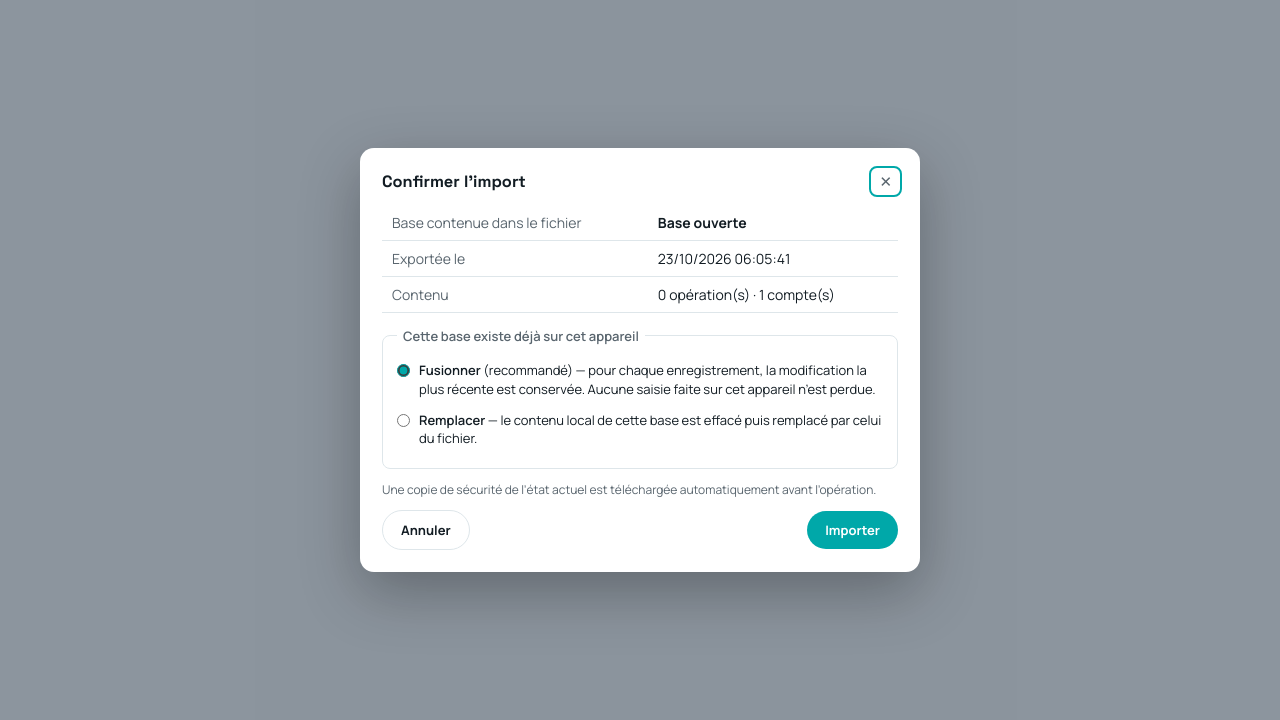
it: sauvegarde ouverte par double-clic › importe après confirmation
Click the button "Importer" at (853, 530), box [807,511,898,549]
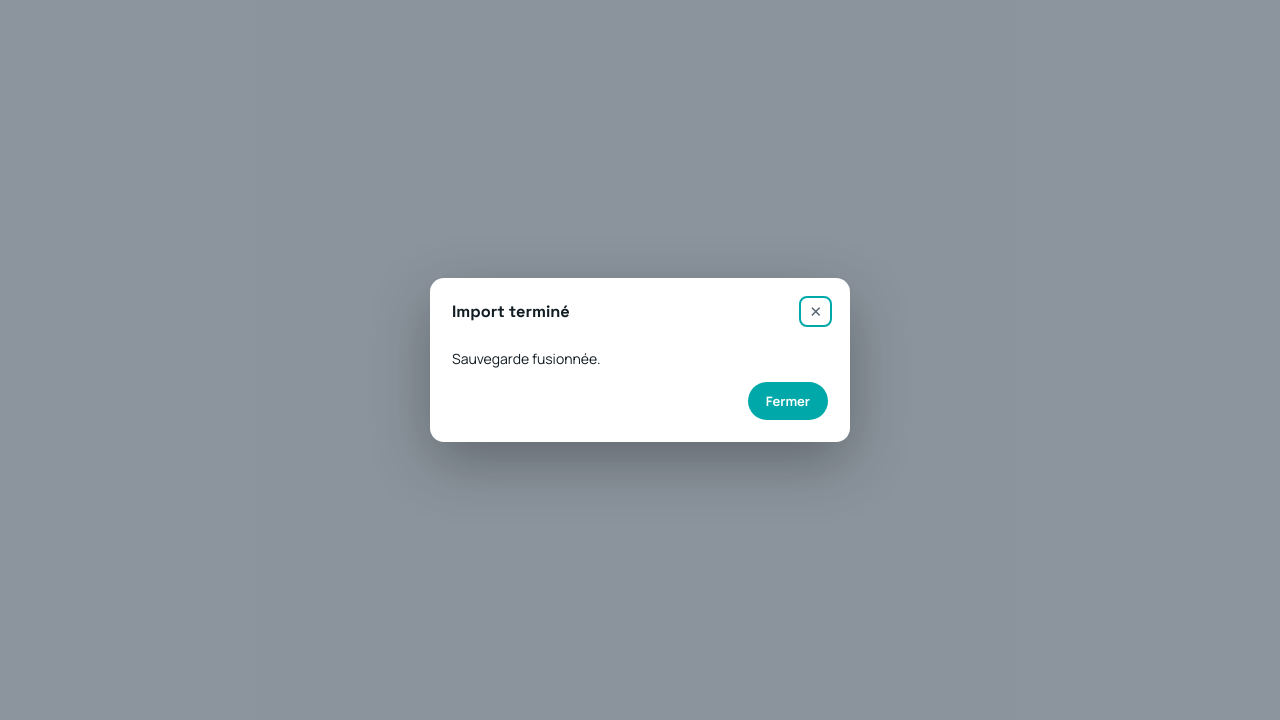
expect the text "Sauvegarde fusionnée." is shown: met, box [452,349,600,368]
